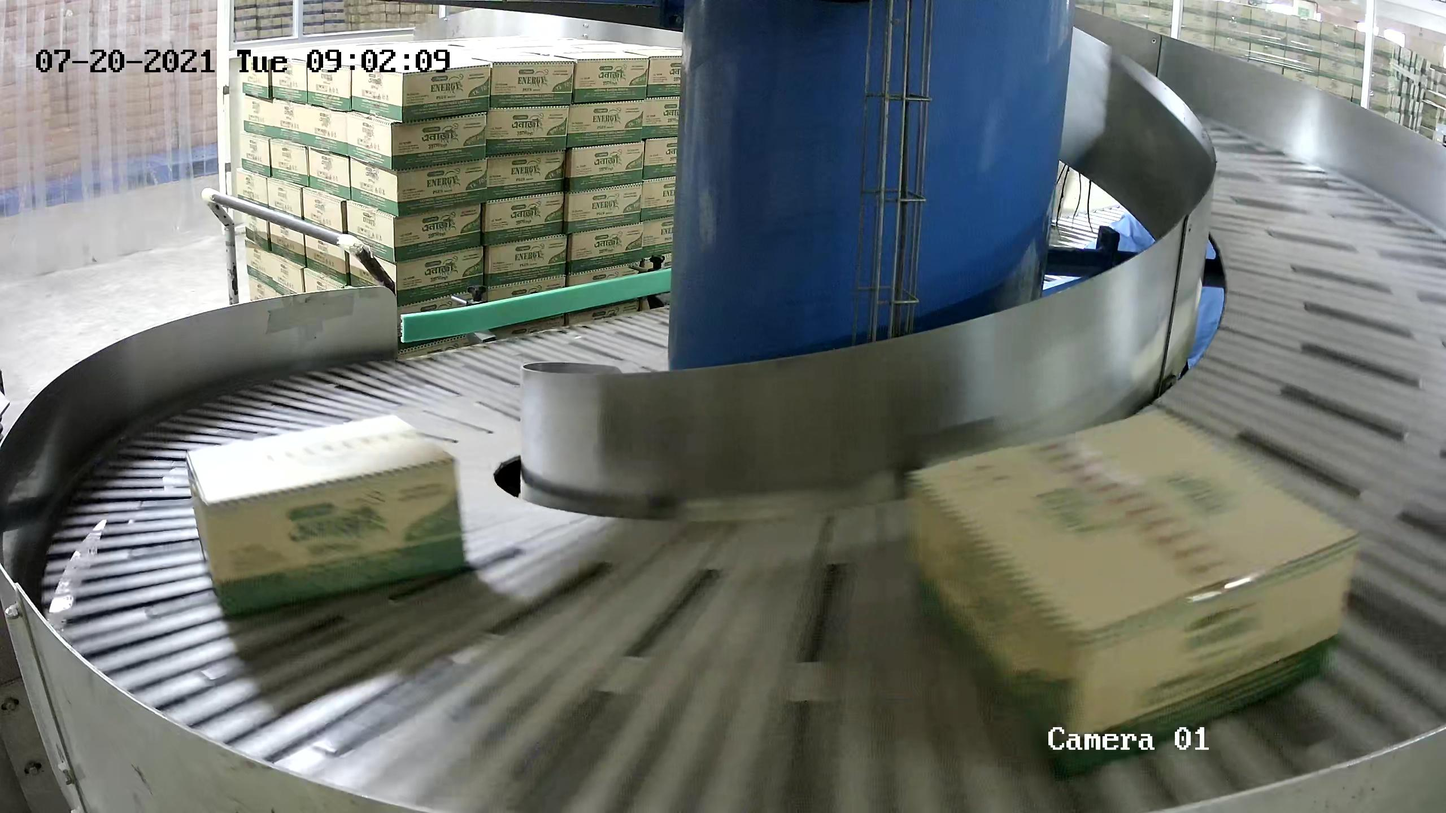Box: (907, 405, 1366, 782), (185, 413, 466, 619)
